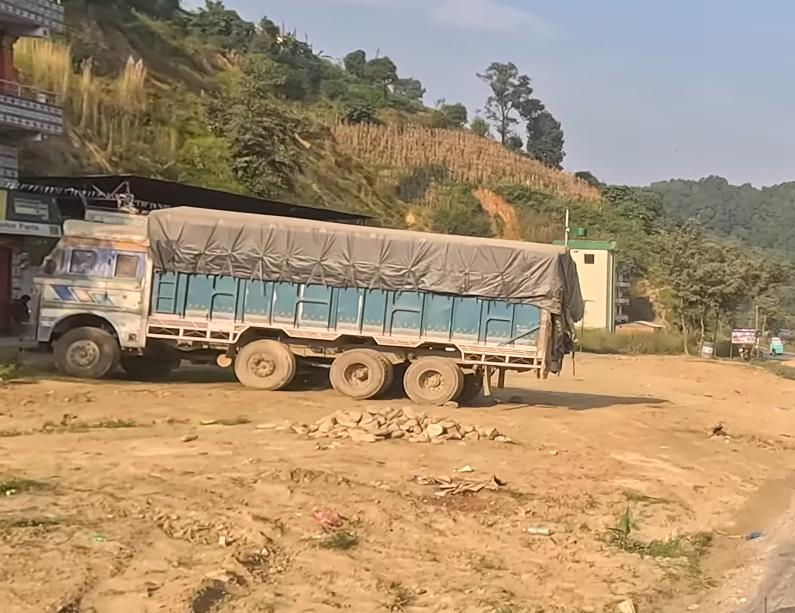truck: (18, 200, 584, 407)
